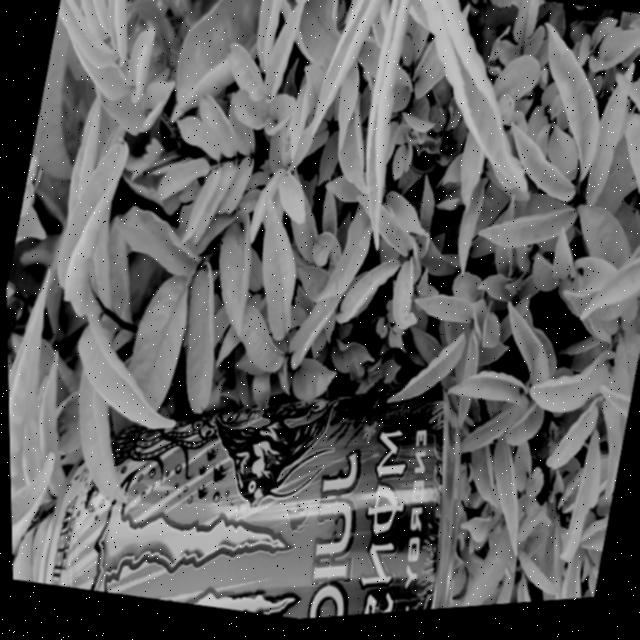Monster Aussie Lemonade: (33, 316, 485, 638)
